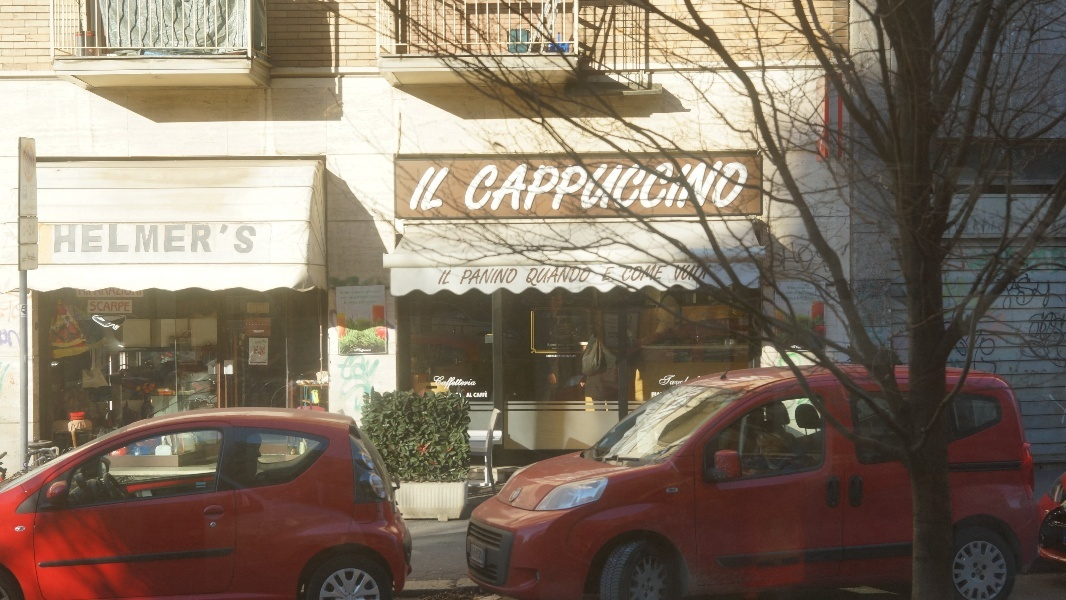text: (353, 355, 368, 412), (338, 355, 352, 412), (481, 162, 496, 212), (497, 162, 512, 212), (513, 162, 528, 212), (529, 162, 544, 212), (545, 162, 560, 212), (561, 162, 576, 212), (577, 162, 592, 212), (593, 162, 608, 212), (609, 162, 624, 212), (625, 162, 640, 212), (641, 162, 656, 212), (657, 162, 672, 212), (673, 162, 688, 212), (689, 162, 704, 212), (705, 162, 720, 212), (721, 162, 736, 212), (737, 162, 752, 212), (433, 166, 448, 212), (369, 355, 380, 412), (65, 225, 80, 255), (81, 225, 96, 255), (97, 225, 112, 255), (113, 225, 128, 255), (129, 225, 144, 255), (145, 225, 160, 255), (161, 225, 176, 255), (177, 225, 192, 255), (193, 225, 208, 255), (209, 225, 224, 255), (225, 225, 240, 255), (241, 225, 256, 255), (577, 266, 593, 288), (545, 266, 560, 288), (561, 266, 576, 288), (425, 166, 432, 212), (530, 266, 544, 288), (54, 225, 64, 255), (465, 268, 480, 286), (481, 268, 496, 286), (497, 268, 512, 286), (625, 264, 640, 282), (641, 264, 656, 282), (689, 264, 704, 282), (673, 373, 688, 388), (676, 264, 688, 282), (449, 376, 464, 390), (657, 264, 668, 282), (434, 376, 448, 390), (449, 166, 453, 212), (465, 376, 478, 390), (753, 162, 756, 212), (97, 302, 112, 312), (113, 302, 128, 312), (513, 268, 520, 286), (705, 264, 712, 282), (81, 288, 96, 296), (97, 288, 112, 296), (113, 288, 128, 296), (665, 373, 672, 388), (609, 267, 616, 282), (129, 288, 142, 296), (22, 305, 32, 313), (467, 393, 480, 398), (444, 270, 448, 286), (449, 270, 453, 286), (257, 225, 259, 255), (369, 290, 381, 295), (353, 301, 368, 305), (786, 291, 800, 295), (786, 297, 800, 301), (354, 348, 368, 352), (479, 162, 480, 212), (91, 302, 96, 312), (481, 391, 488, 398), (340, 291, 352, 295), (561, 355, 577, 358), (801, 302, 816, 305), (354, 296, 368, 299), (370, 295, 384, 298), (561, 344, 575, 347), (474, 391, 480, 398), (787, 286, 800, 289), (547, 355, 560, 358), (807, 286, 816, 290), (791, 302, 800, 306), (804, 297, 816, 300), (548, 344, 560, 347), (341, 297, 352, 300), (353, 291, 361, 295), (344, 301, 352, 305), (369, 301, 377, 305), (689, 373, 691, 388), (651, 392, 656, 397), (795, 291, 800, 295), (657, 392, 661, 397), (778, 297, 784, 300), (362, 291, 368, 294), (561, 348, 570, 350), (801, 291, 805, 295), (552, 348, 560, 350), (801, 287, 806, 290), (607, 267, 608, 282), (797, 297, 800, 301), (801, 297, 804, 301), (817, 297, 821, 300), (369, 348, 372, 352), (129, 302, 130, 312), (366, 290, 368, 295), (349, 296, 352, 299), (79, 288, 80, 296), (798, 287, 800, 290), (782, 297, 784, 300), (558, 355, 560, 358), (558, 344, 560, 347), (353, 296, 354, 299)
